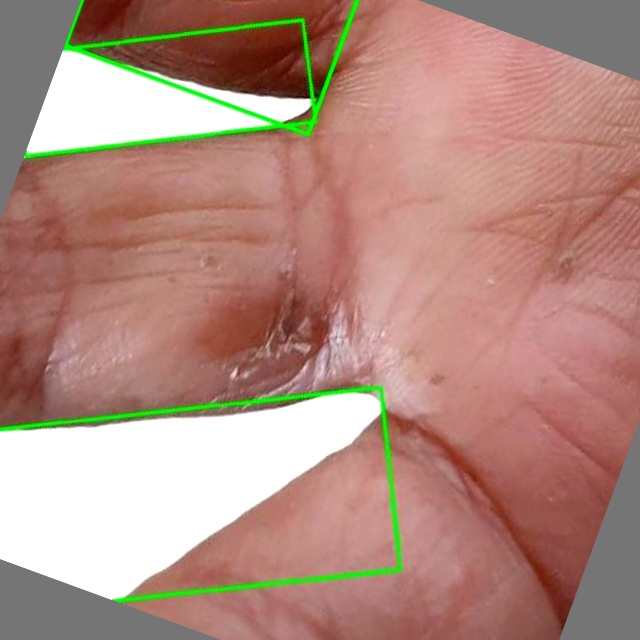Scabies: (0, 387, 399, 600), (24, 20, 314, 157)
